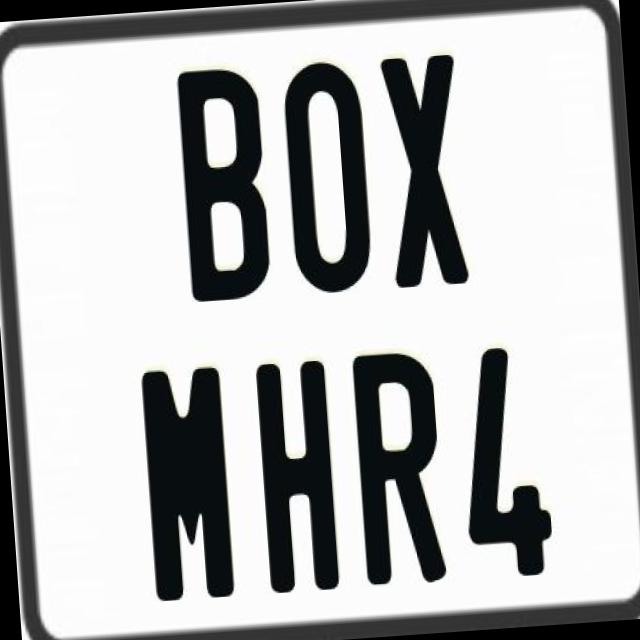0: (281, 58, 378, 294)
4: (453, 342, 555, 576)
B: (174, 62, 268, 297)
H: (254, 357, 340, 593)
M: (138, 363, 239, 600)
R: (349, 349, 448, 591)
X: (376, 54, 468, 294)
